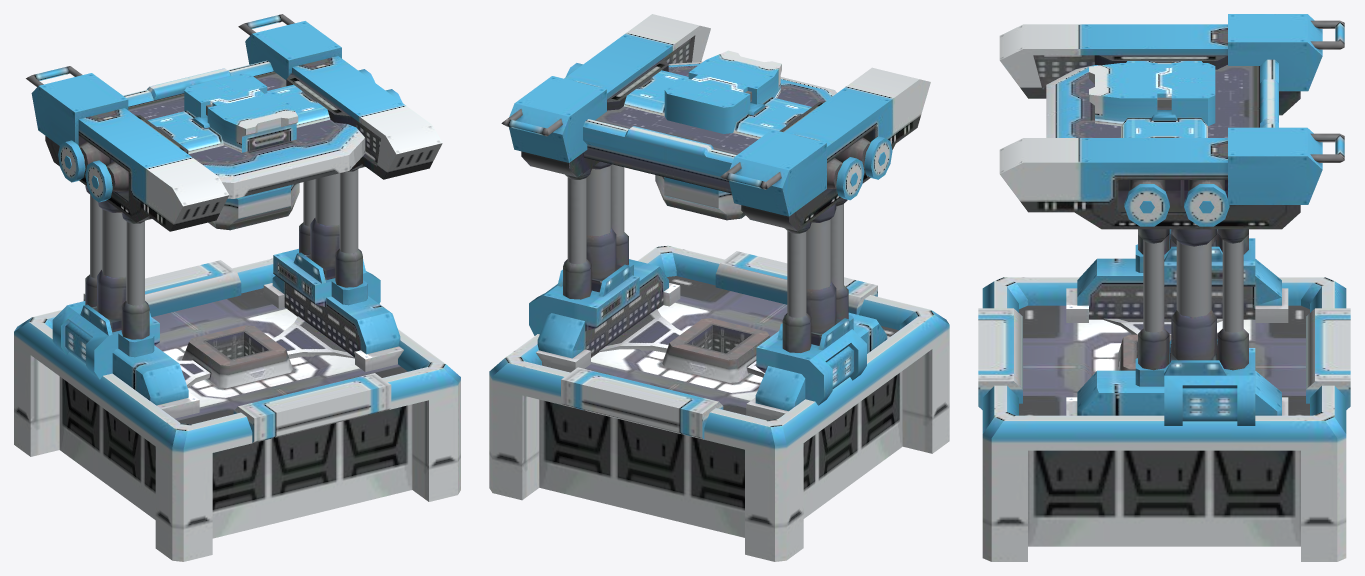
3 renders of one model, left to right at view 1: azimuth 30°, elevation 25°; view 2: azimuth 150°, elevation 25°; view 3: azimuth 270°, elevation 25°, orthographic. The views are drawn at different scales.
Visible parts, largest first — view 1: assembler-mk-3; view 2: assembler-mk-3; view 3: assembler-mk-3.
Part boxes in pixels (left/top/right/bottom): assembler-mk-3: left=14, top=14, right=460, bottom=561; assembler-mk-3: left=489, top=14, right=949, bottom=561; assembler-mk-3: left=978, top=14, right=1350, bottom=561.
Size of the model in its own units: 4.17 by 4.91 by 4.09.
Materials: 1 (1 with a texture image).
